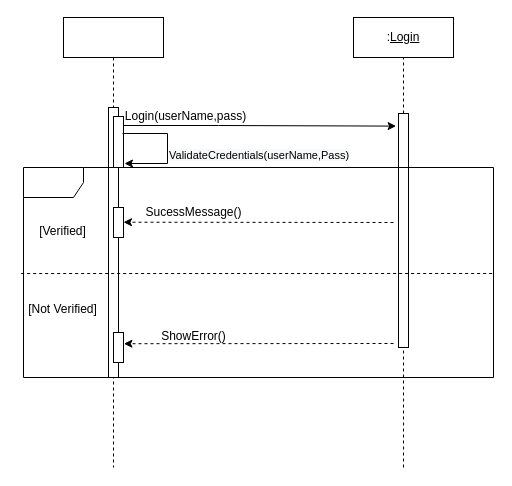
Image size: 512x486. Some labels were removed from this diagram. The box of each missing label's shape, as (x1, y1, x2, y2) in pixels:
: User: (62, 16, 164, 58)
Alt: (22, 166, 494, 378)
